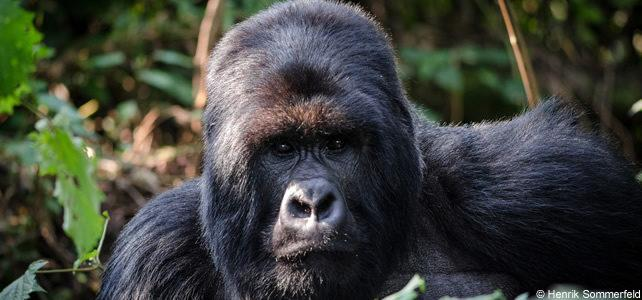goriile_montagne: (114, 0, 623, 300)
